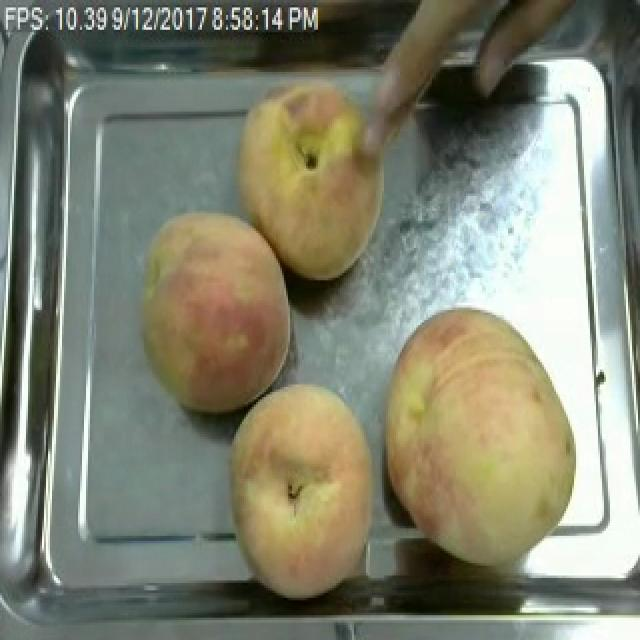Fruit: (368, 298, 588, 576), (218, 370, 396, 610), (224, 62, 406, 290), (132, 203, 302, 422)
